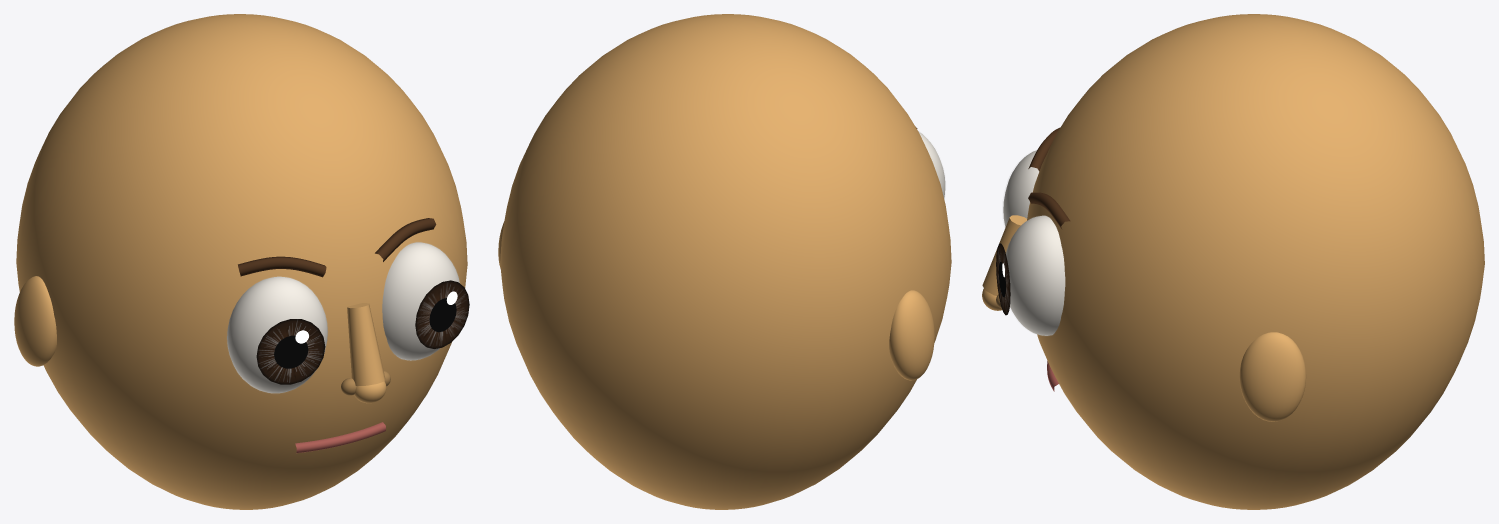
File: 02-grands-yeux.glb
3 views of the same model, side by side, from view 1: azimuth 30°, elevation 25°; view 2: azimuth 150°, elevation 25°; view 3: azimuth 270°, elevation 25° (orthographic).
Size of the model in its own units: 0.3087 by 0.321 by 0.3166.
9 materials, 1 textured.
